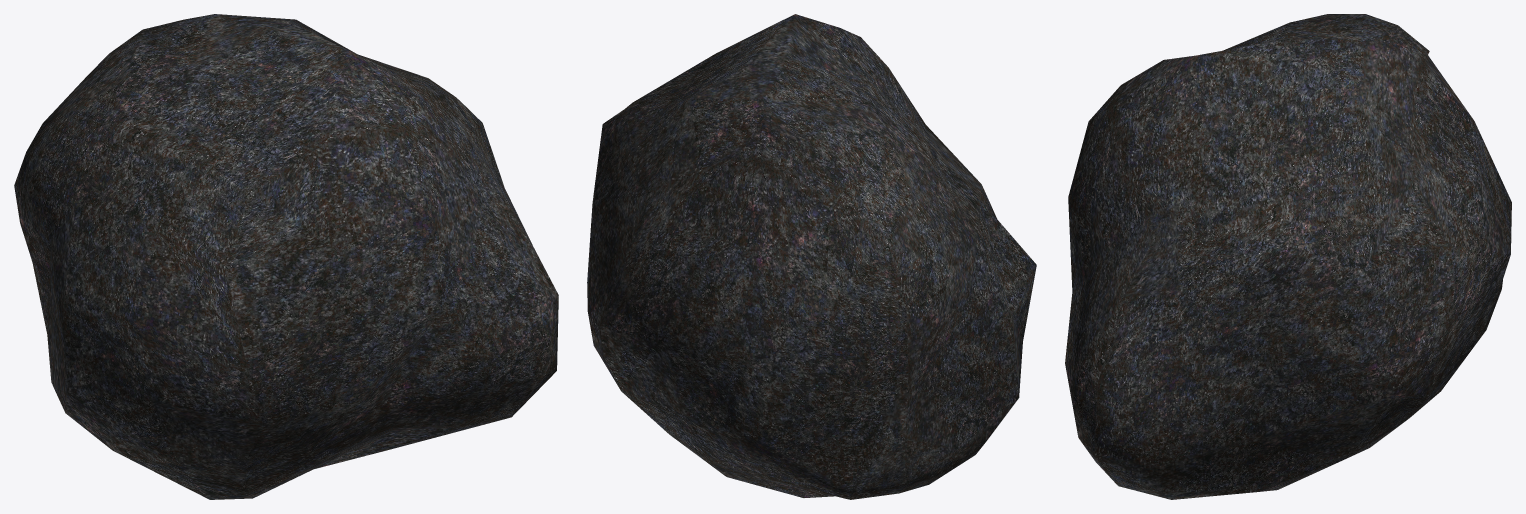
Rendered from asteroid_metal_medium_s02_l1.fbx.
3 views of the same model, side by side, from view 1: azimuth 30°, elevation 25°; view 2: azimuth 150°, elevation 25°; view 3: azimuth 270°, elevation 25° (orthographic).
Parts seen in each view (by area): view 1: mesh_node; view 2: mesh_node; view 3: mesh_node.
Boxes of the visible parts, <box> form: mesh_node: <box>14,14,558,499</box>; mesh_node: <box>587,14,1036,499</box>; mesh_node: <box>1065,14,1511,499</box>.
Bounding box in the file's own units: 73.28 × 73.1 × 66.64.
